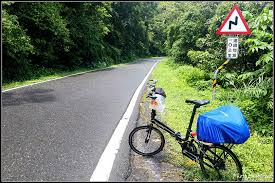Double_bend_right: (215, 3, 252, 35)
